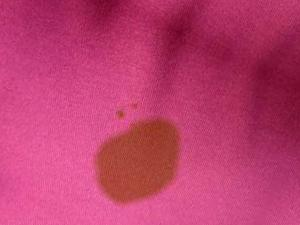stain: (91, 118, 186, 208), (128, 100, 142, 111), (115, 109, 126, 121)
